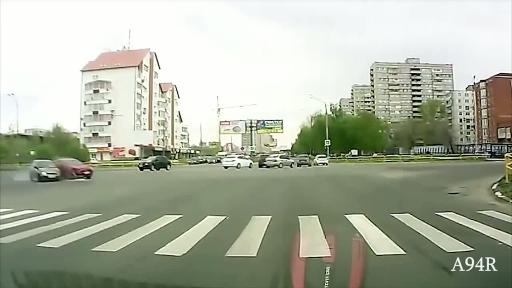Accident: (28, 155, 98, 186)
CAR: (134, 150, 174, 175), (220, 149, 253, 172), (265, 153, 294, 170), (310, 149, 330, 169)
